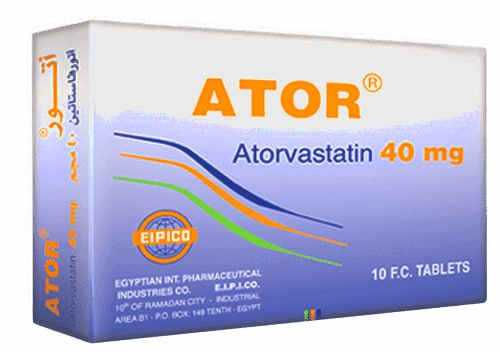Medicine: (33, 19, 496, 343)
